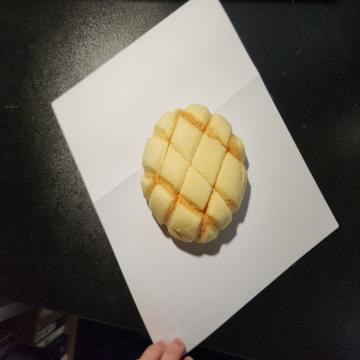melon_bread: (139, 103, 248, 245)
